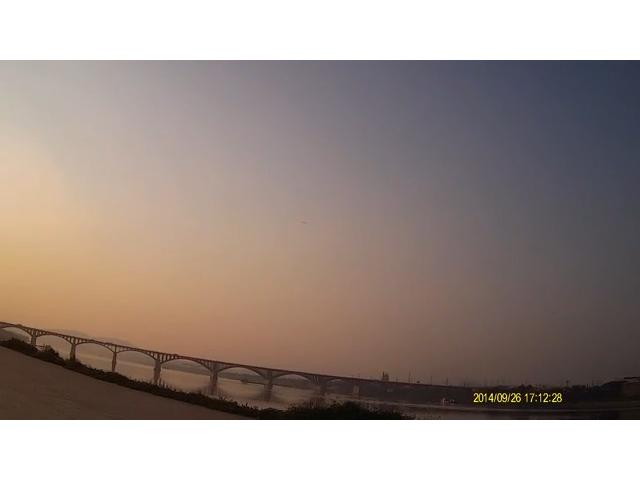Anti-Drone: (297, 214, 317, 227)
